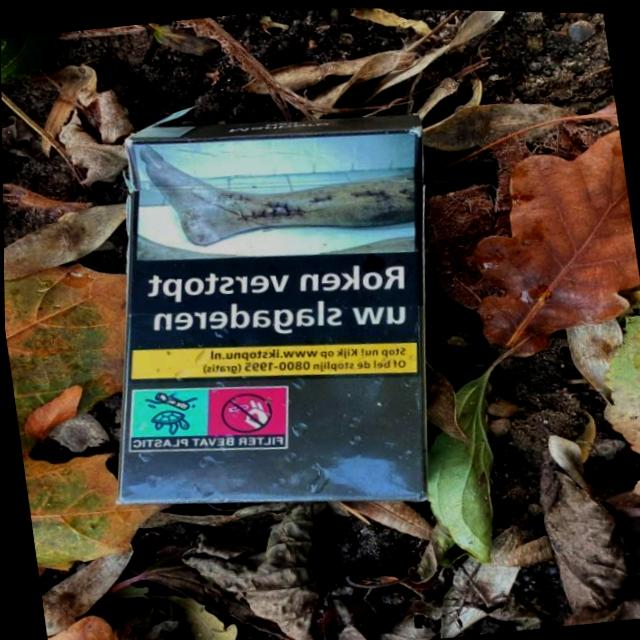Paper: (52, 72, 476, 545)
